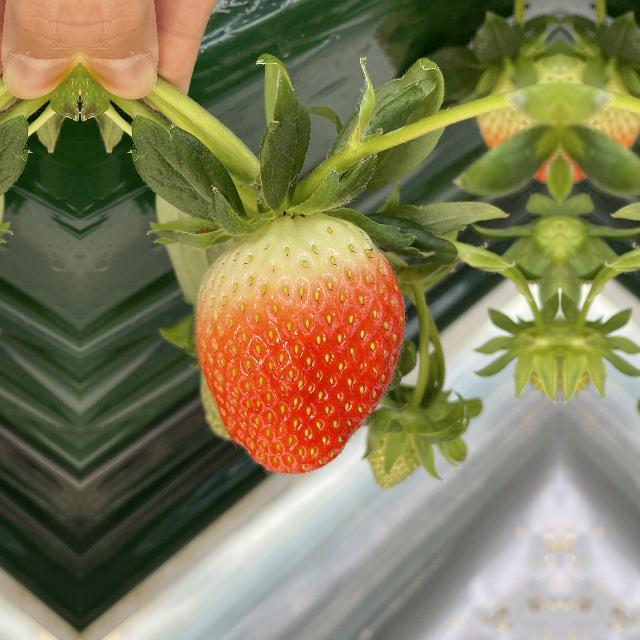Health_100: (192, 206, 408, 490)
